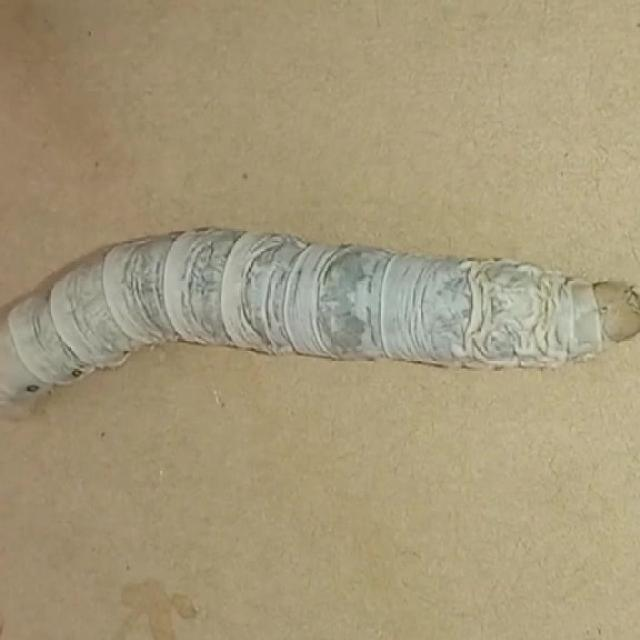Grasserie: (1, 172, 640, 466)
